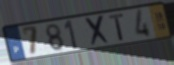1: (63, 19, 79, 51)
4: (134, 8, 152, 40)
7: (21, 24, 41, 57)
8: (43, 23, 66, 52)
T: (108, 12, 126, 42)
X: (83, 14, 112, 48)
